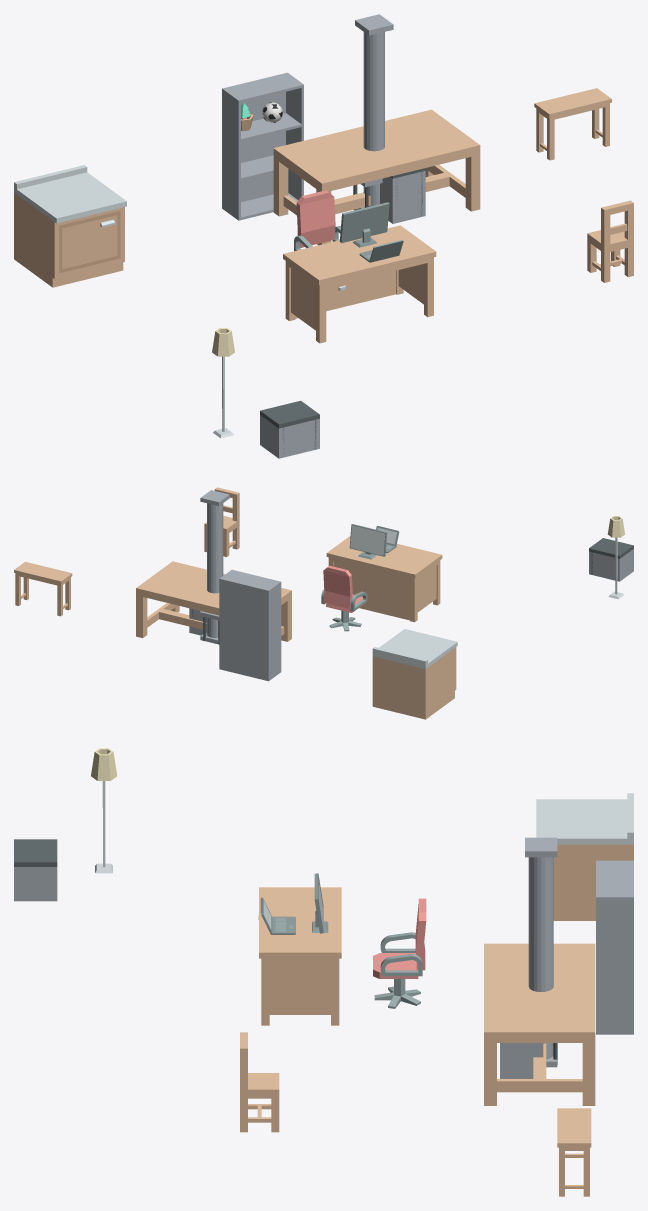
The picture shows the model from 3 angles, top to bottom: view 1: azimuth 30°, elevation 25°; view 2: azimuth 150°, elevation 25°; view 3: azimuth 270°, elevation 25°; orthographic projection. The views are drawn at different scales.
Parts seen in each view (by area): view 1: table_green__table(Clone), desk_blue__desk(Clone), cabinet_blue__kitchenCabinet(Clone), cabinet_blue__door, column_cyan__column_cyan shaft, chair_cyan__chair(Clone), sidetable_brown__sideTable(Clone), shelf_orange__shelf_orange side_l, shelf_orange__shelf_orange back, deskchair_black__chair, bin_gray__bin_gray shell, crate_red__crate_red shell (+7 smaller); view 2: cabinet_blue__kitchenCabinet(Clone), desk_blue__desk(Clone), table_green__table(Clone), shelf_orange__shelf_orange back, column_cyan__column_cyan shaft, sidetable_brown__sideTable(Clone), deskchair_black__chair, shelf_orange__shelf_orange side_l, monitor_gray__computerScreen(Clone), chair_cyan__chair(Clone), crate_red__crate_red shell, lamp_white__lampRoundFloor(Clone) (+2 smaller); view 3: table_green__table(Clone), desk_blue__desk(Clone), cabinet_blue__kitchenCabinet(Clone), shelf_orange__shelf_orange side_r, column_cyan__column_cyan shaft, deskchair_black__chair, chair_cyan__chair(Clone), sidetable_brown__sideTable(Clone), crate_red__crate_red shell, bin_gray__bin_gray shell, crate_red__crate_red lid, shelf_orange__shelf_orange board3 (+4 smaller).
Part boxes in pixels (x1=…): table_green__table(Clone): x1=273, y1=109, x2=480, y2=245; desk_blue__desk(Clone): x1=283, y1=225, x2=436, y2=343; cabinet_blue__kitchenCabinet(Clone): x1=14, y1=165, x2=126, y2=287; cabinet_blue__door: x1=59, y1=211, x2=120, y2=273; column_cyan__column_cyan shaft: x1=363, y1=32, x2=384, y2=207; chair_cyan__chair(Clone): x1=587, y1=200, x2=633, y2=282; sidetable_brown__sideTable(Clone): x1=534, y1=88, x2=611, y2=160; shelf_orange__shelf_orange side_l: x1=222, y1=88, x2=240, y2=220; shelf_orange__shelf_orange back: x1=225, y1=73, x2=285, y2=202; deskchair_black__chair: x1=294, y1=190, x2=340, y2=251; bin_gray__bin_gray shell: x1=380, y1=171, x2=425, y2=223; crate_red__crate_red shell: x1=260, y1=415, x2=319, y2=458; cabinet_blue__kitchenCabinet(Clone): x1=372, y1=629, x2=457, y2=719; desk_blue__desk(Clone): x1=326, y1=536, x2=442, y2=622; table_green__table(Clone): x1=136, y1=561, x2=291, y2=641; shelf_orange__shelf_orange back: x1=221, y1=579, x2=266, y2=680; column_cyan__column_cyan shaft: x1=207, y1=503, x2=223, y2=637; sidetable_brown__sideTable(Clone): x1=14, y1=561, x2=72, y2=616; deskchair_black__chair: x1=321, y1=565, x2=367, y2=612; shelf_orange__shelf_orange side_l: x1=267, y1=581, x2=281, y2=681; monitor_gray__computerScreen(Clone): x1=349, y1=524, x2=387, y2=559; chair_cyan__chair(Clone): x1=204, y1=487, x2=239, y2=556; crate_red__crate_red shell: x1=589, y1=549, x2=633, y2=581; lamp_white__lampRoundFloor(Clone): x1=607, y1=516, x2=624, y2=599; table_green__table(Clone): x1=484, y1=943, x2=595, y2=1105; desk_blue__desk(Clone): x1=259, y1=887, x2=341, y2=1025; cabinet_blue__kitchenCabinet(Clone): x1=536, y1=793, x2=633, y2=920; shelf_orange__shelf_orange side_r: x1=596, y1=895, x2=633, y2=1034; column_cyan__column_cyan shaft: x1=528, y1=857, x2=553, y2=1059; deskchair_black__chair: x1=373, y1=898, x2=426, y2=978; chair_cyan__chair(Clone): x1=240, y1=1032, x2=279, y2=1132; sidetable_brown__sideTable(Clone): x1=557, y1=1108, x2=591, y2=1196; crate_red__crate_red shell: x1=14, y1=867, x2=57, y2=901; bin_gray__bin_gray shell: x1=500, y1=1043, x2=543, y2=1078; crate_red__crate_red lid: x1=14, y1=839, x2=57, y2=866; shelf_orange__shelf_orange board3: x1=596, y1=862, x2=631, y2=895.
Size of the model in its own units: 7.26 by 2.2 by 5.72.
